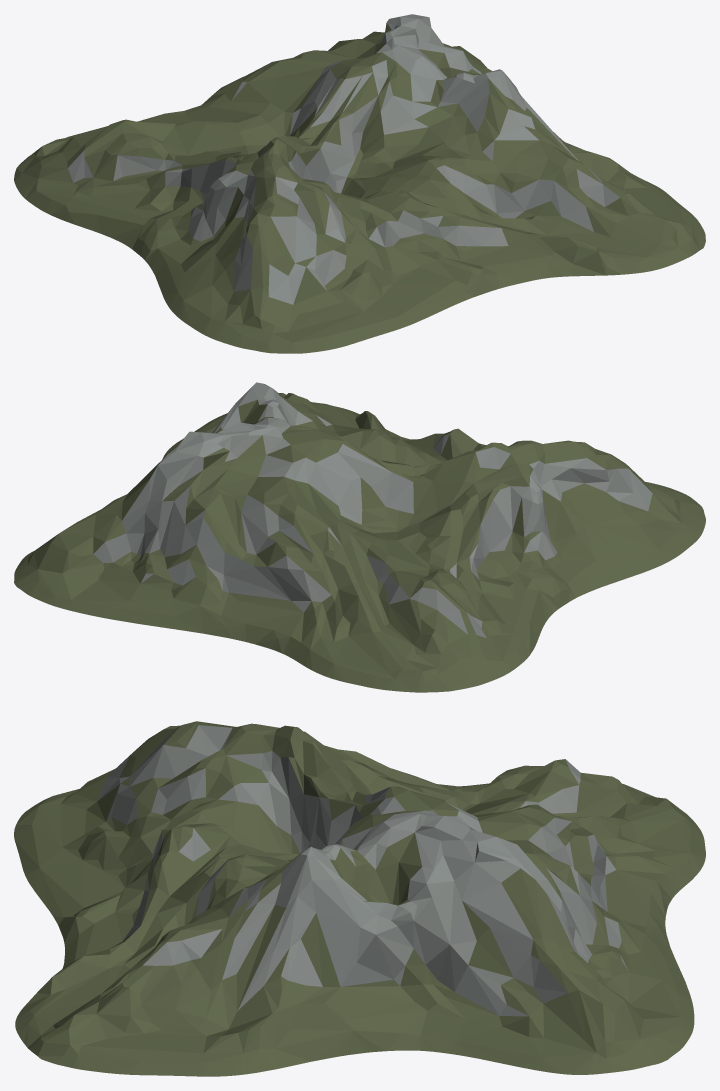
The model's file is SM_Generic_Mountains_Grass_01.fbx.
3 renders of one model, top to bottom at view 1: azimuth 30°, elevation 25°; view 2: azimuth 150°, elevation 25°; view 3: azimuth 270°, elevation 25°, orthographic. The views are drawn at different scales.
Parts seen in each view (by area): view 1: SM_Generic_Mountains_Grass_01; view 2: SM_Generic_Mountains_Grass_01; view 3: SM_Generic_Mountains_Grass_01.
Boxes of the visible parts, bbox=[...] form: SM_Generic_Mountains_Grass_01: bbox=[14, 14, 705, 353]; SM_Generic_Mountains_Grass_01: bbox=[14, 382, 705, 692]; SM_Generic_Mountains_Grass_01: bbox=[14, 721, 705, 1076].
Size of the model in its own units: 2261 by 557 by 2235.
